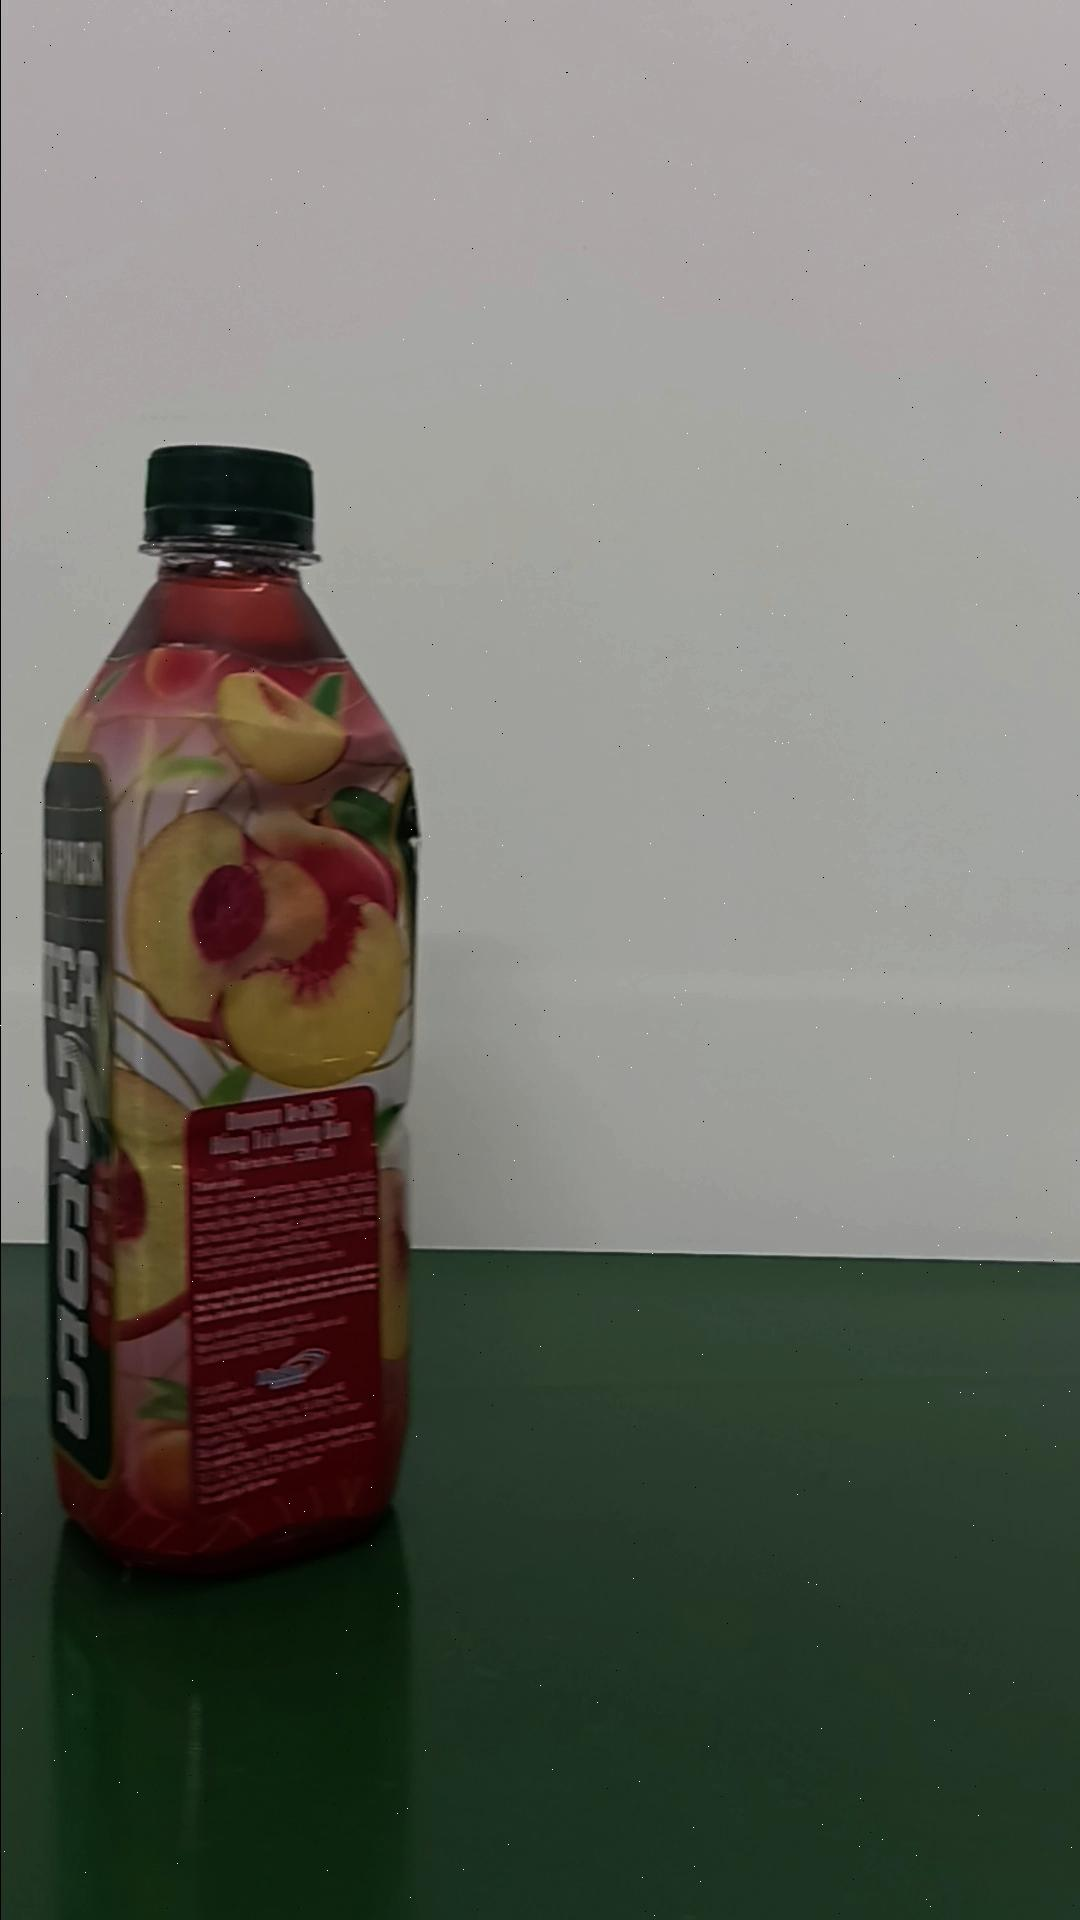loi meo sp: (40, 442, 423, 1577)
